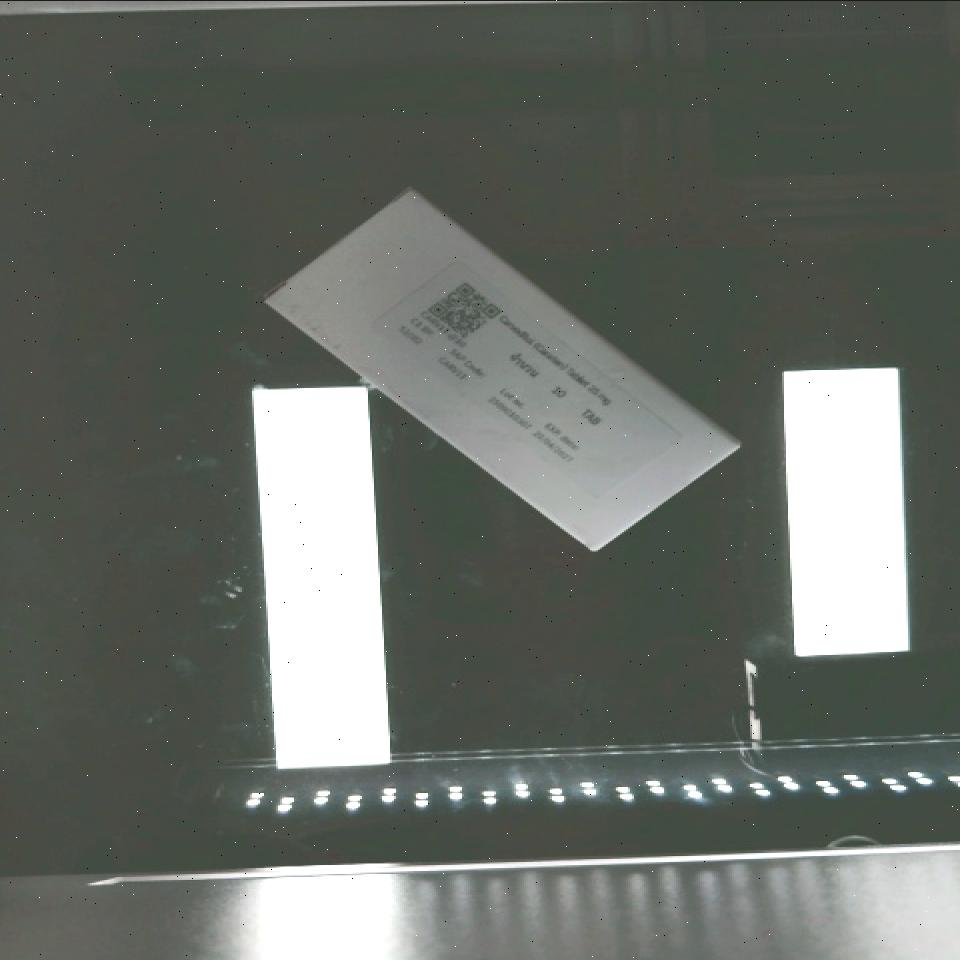medicine_box: (265, 163, 737, 585)
qr_code: (413, 263, 513, 359)
